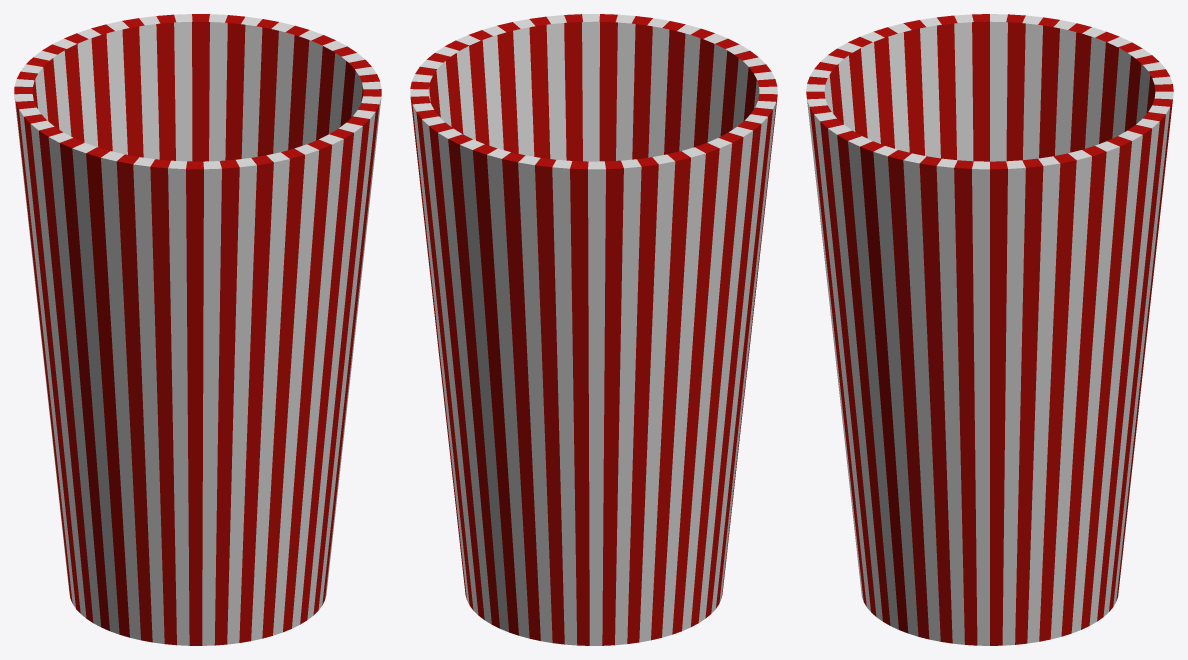
The model's file is Cup Red.glb.
3 renders of one model, left to right at view 1: azimuth 30°, elevation 25°; view 2: azimuth 150°, elevation 25°; view 3: azimuth 270°, elevation 25°, orthographic.
Visible parts, largest first — view 1: Cone; view 2: Cone; view 3: Cone.
Part boxes in pixels (x1,y1,x2,y2): Cone: (14, 14, 381, 645); Cone: (410, 14, 777, 645); Cone: (806, 14, 1173, 645).
Bounding box in the file's own units: 0.2 × 0.3 × 0.2.
